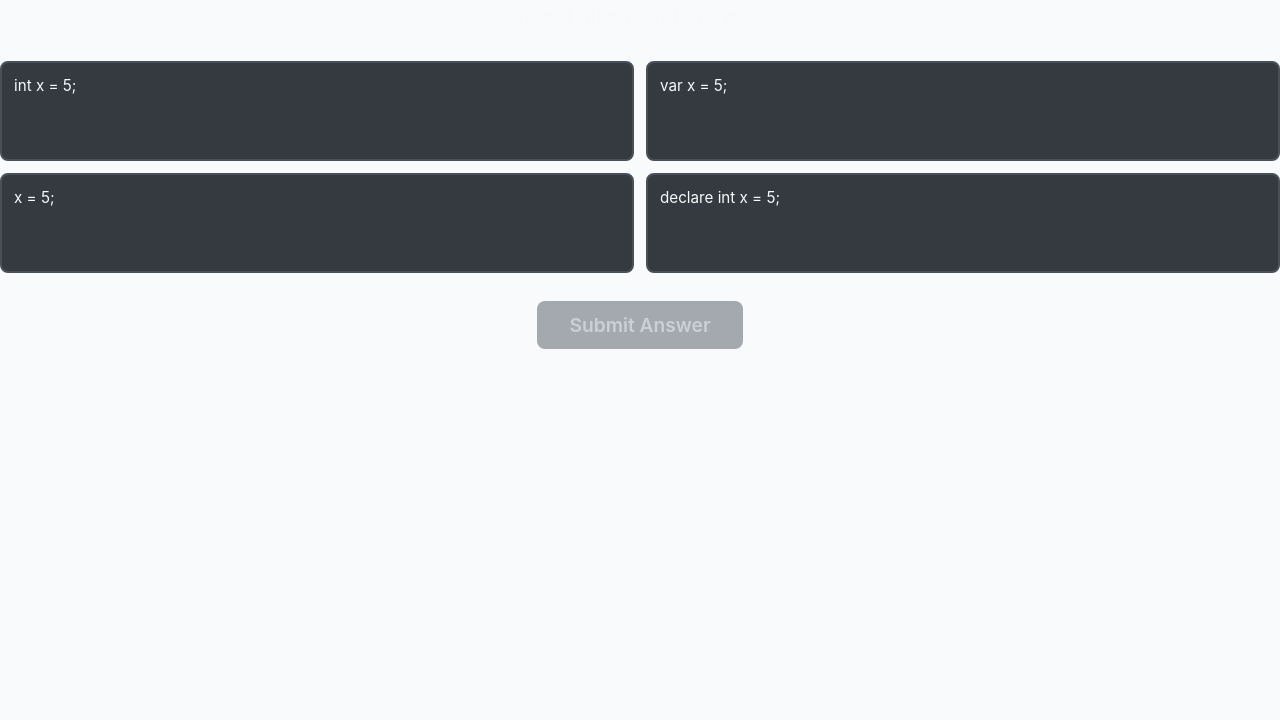
AnswerComponent › Option Selection › should allow multiple selections for multiple choice questions
Click the button "int x = 5;". click: (45, 86)
box: top-left (0, 61), bottom-right (634, 161)
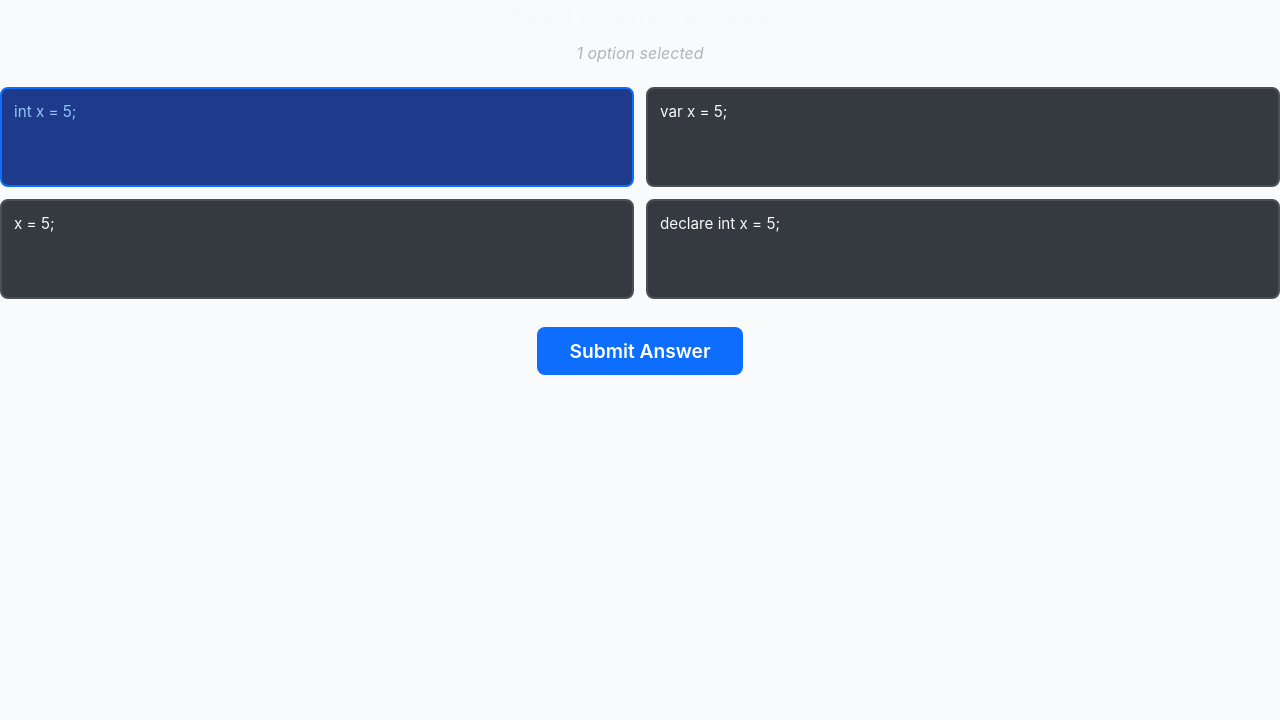
Click the button "var x = 5;". click: (694, 111)
box: top-left (646, 87), bottom-right (1279, 187)
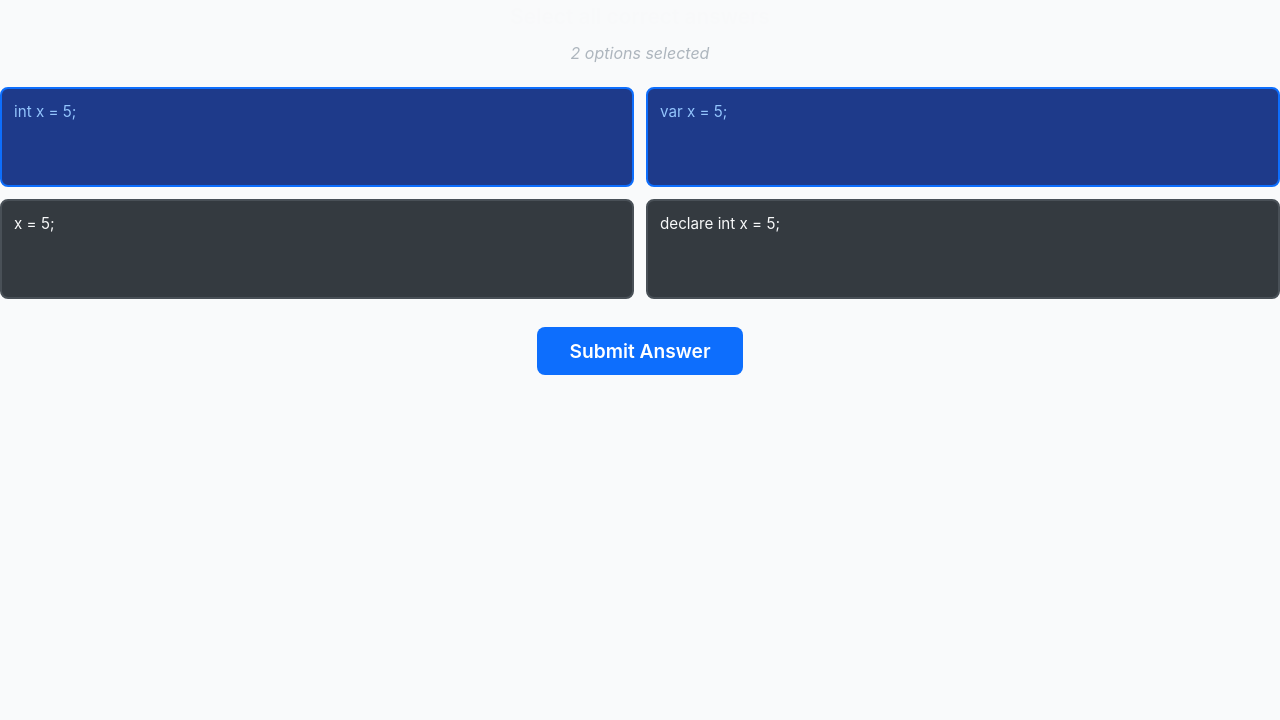
expect the text "2 options selected" is shown: met, box top-left (571, 43), bottom-right (709, 63)
